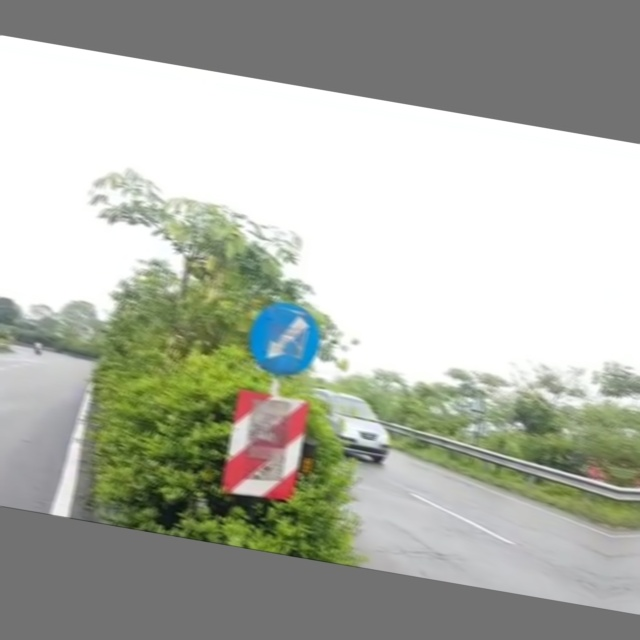Compulsory_Keep_Left: (236, 289, 334, 386)
